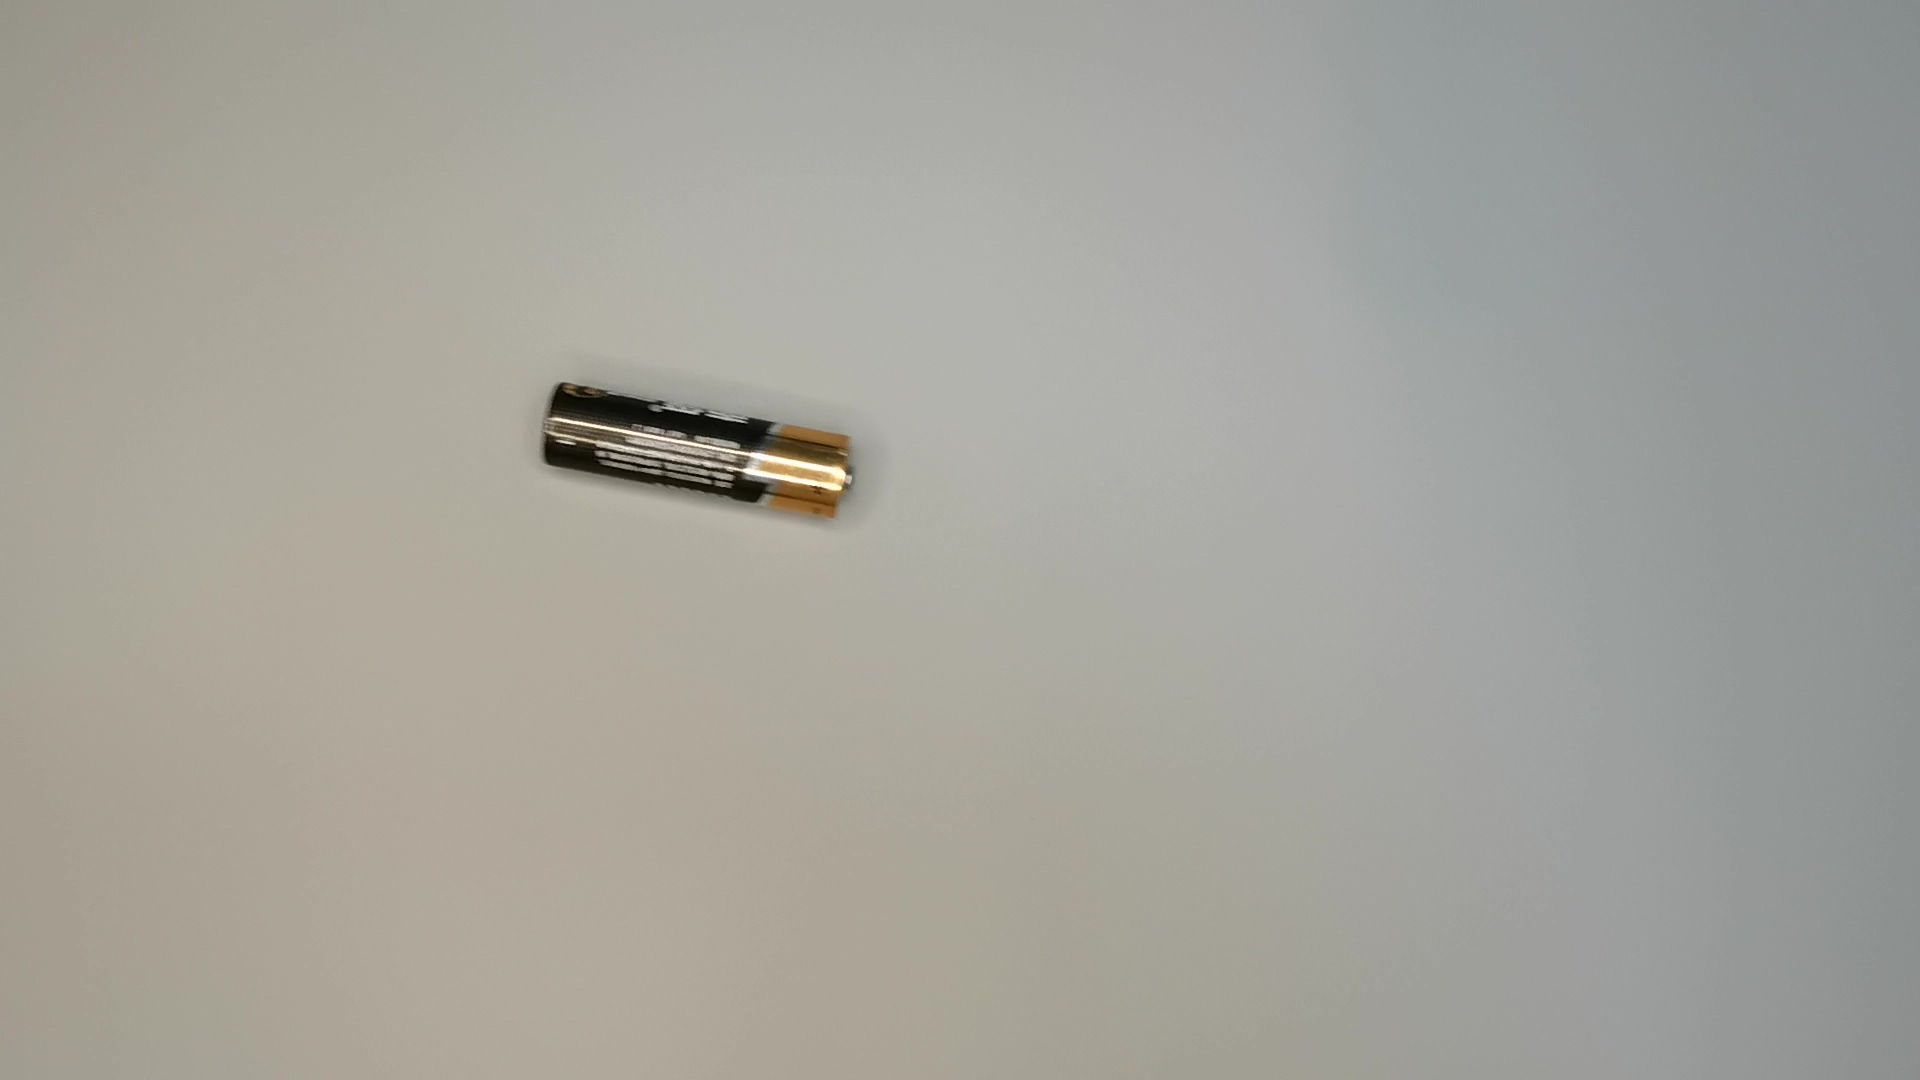battery: (538, 372, 862, 524)
